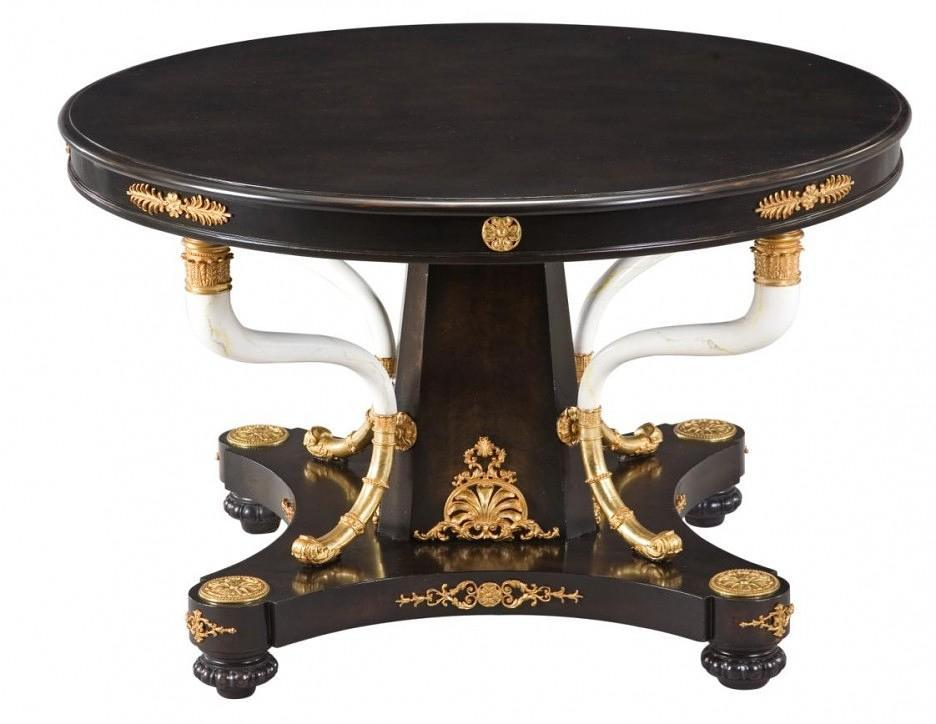Carving Table: (86, 42, 908, 692)
